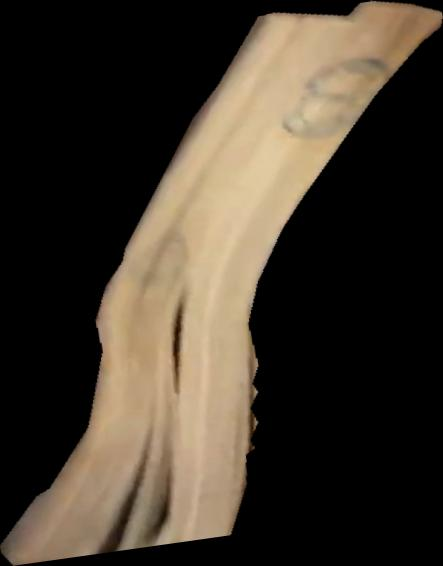backward: (1, 1, 443, 566)
